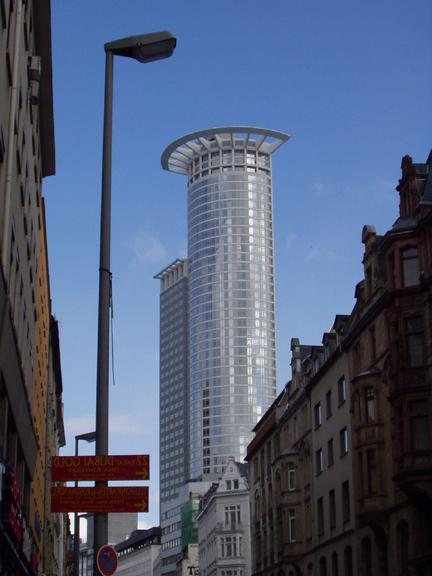building: (244, 146, 432, 576), (152, 119, 292, 576), (0, 0, 67, 576), (195, 458, 254, 576)
